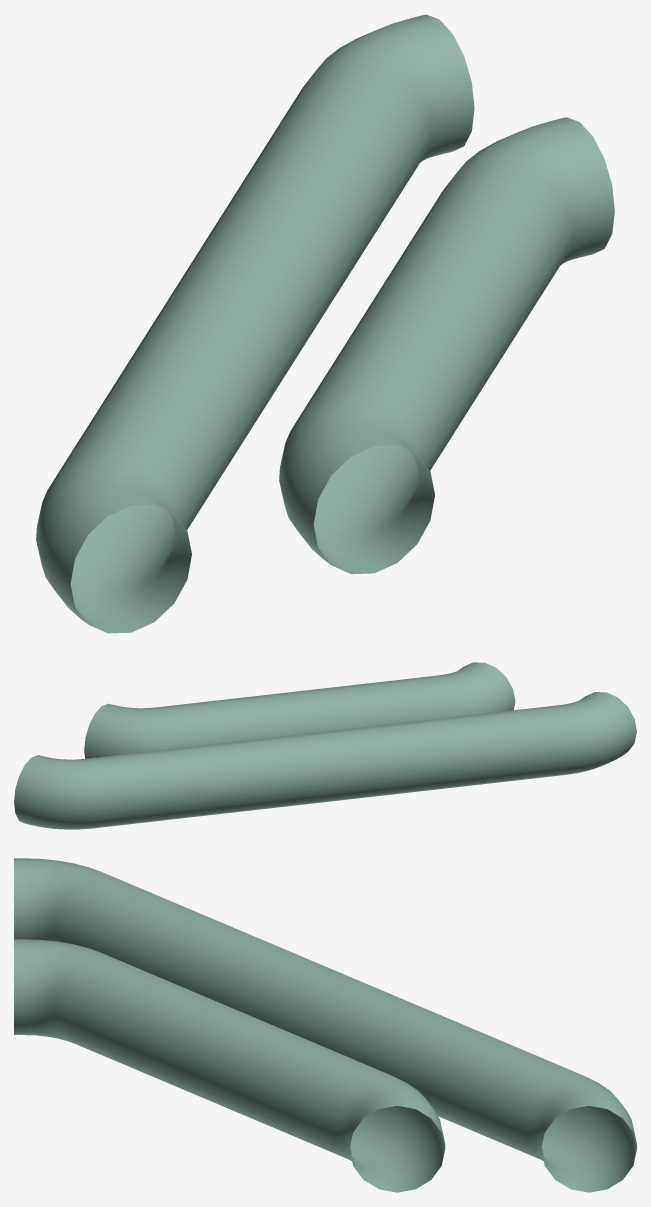
File: PipeComplexLarge_A3_19.fbx
The picture shows the model from 3 angles, top to bottom: view 1: azimuth 30°, elevation 25°; view 2: azimuth 150°, elevation 25°; view 3: azimuth 270°, elevation 25°; orthographic projection. The views are drawn at different scales.
Parts seen in each view (by area): view 1: PipeComplexLarge_A3_19.001; view 2: PipeComplexLarge_A3_19.001; view 3: PipeComplexLarge_A3_19.001.
Boxes of the visible parts, x1,y1,x2,y2 form: PipeComplexLarge_A3_19.001: (36,14,614,633); PipeComplexLarge_A3_19.001: (14,662,636,829); PipeComplexLarge_A3_19.001: (14,858,636,1192).
Bounding box in the file's own units: 1.3 × 0.2 × 1.3.
